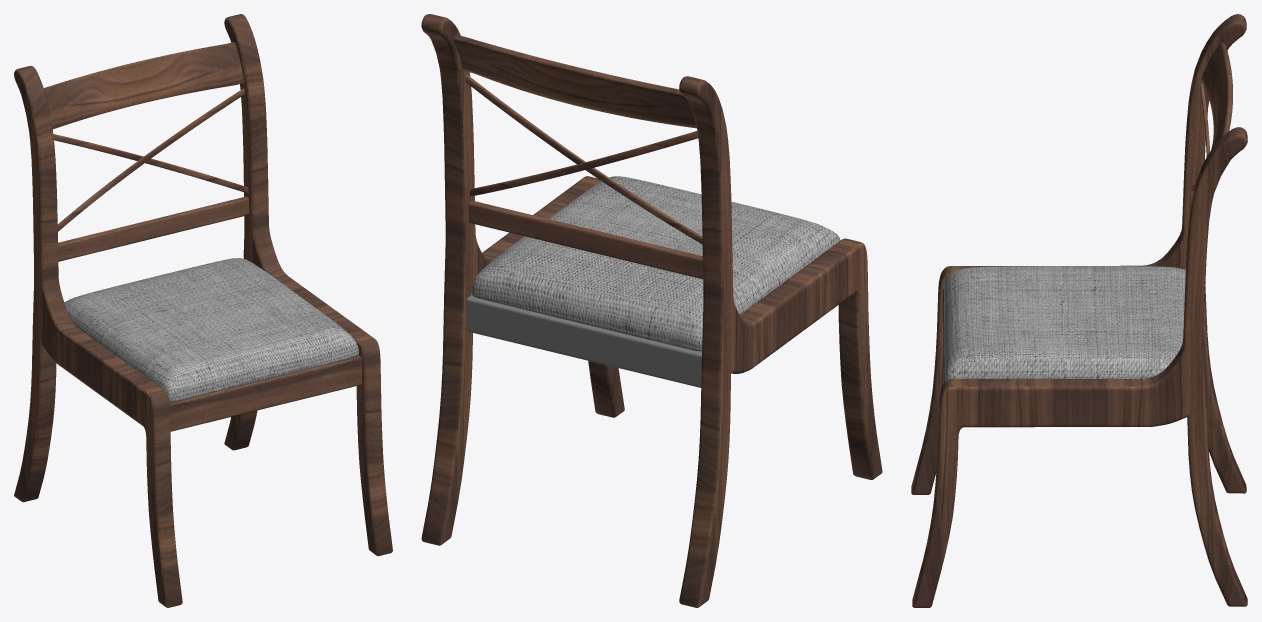
File: ProKrzeslo2.FBX
The picture shows the model from 3 angles, left to right: view 1: azimuth 30°, elevation 25°; view 2: azimuth 150°, elevation 25°; view 3: azimuth 270°, elevation 25°; orthographic projection. The views are drawn at different scales.
Visible parts, largest first — view 1: RenderStuff_Pro_chair; view 2: RenderStuff_Pro_chair; view 3: RenderStuff_Pro_chair.
Part boxes in pixels (x1,y1,x2,y2): RenderStuff_Pro_chair: (14,14,392,607); RenderStuff_Pro_chair: (421,14,882,607); RenderStuff_Pro_chair: (911,14,1247,607).
Bounding box in the file's own units: 506 × 908 × 585.
Materials: 4 (3 with a texture image).
